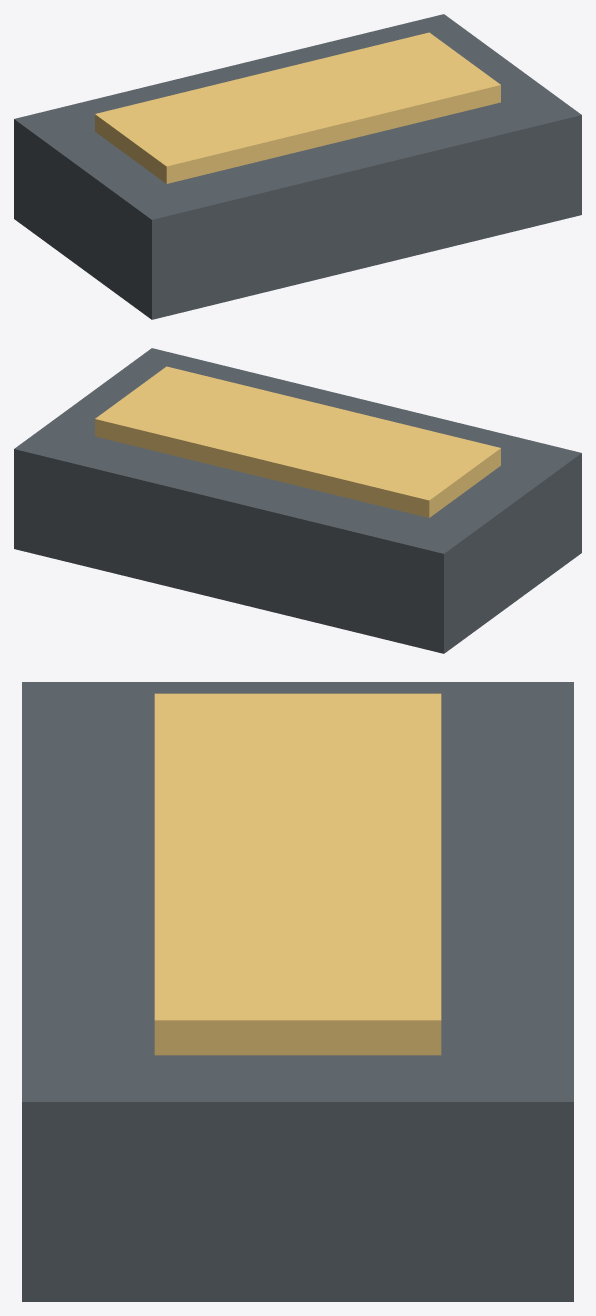
3 views of the same model, one above another, from view 1: azimuth 30°, elevation 25°; view 2: azimuth 150°, elevation 25°; view 3: azimuth 270°, elevation 25° (orthographic). The views are drawn at different scales.
Parts seen in each view (by area): view 1: 182_L114_W257__PSMAT__Connector_Polymer, 182_L114_W257__PSMAT__Indicator_Amber; view 2: 182_L114_W257__PSMAT__Connector_Polymer, 182_L114_W257__PSMAT__Indicator_Amber; view 3: 182_L114_W257__PSMAT__Connector_Polymer, 182_L114_W257__PSMAT__Indicator_Amber.
Boxes of the visible parts, bbox=[...] form: 182_L114_W257__PSMAT__Connector_Polymer: bbox=[14, 14, 581, 319]; 182_L114_W257__PSMAT__Indicator_Amber: bbox=[95, 32, 500, 183]; 182_L114_W257__PSMAT__Connector_Polymer: bbox=[14, 348, 581, 653]; 182_L114_W257__PSMAT__Indicator_Amber: bbox=[95, 366, 500, 517]; 182_L114_W257__PSMAT__Connector_Polymer: bbox=[22, 682, 573, 1301]; 182_L114_W257__PSMAT__Indicator_Amber: bbox=[154, 693, 441, 1055].
Bounding box in the file's own units: 0.009 × 0.0025 × 0.005.
